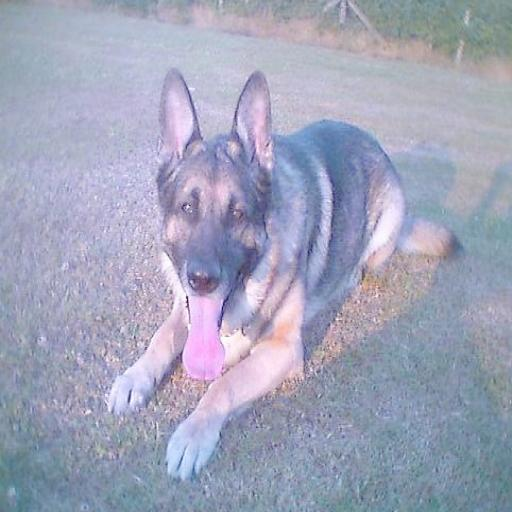dog_face: (150, 70, 269, 370)
